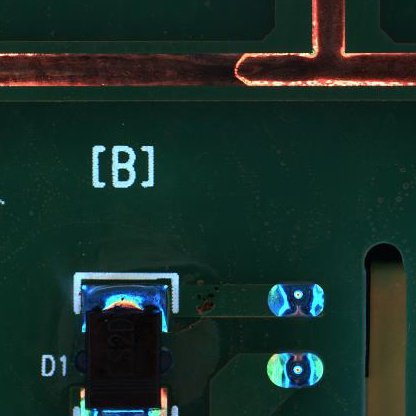spot: (266, 281, 326, 319), (267, 351, 325, 388)
